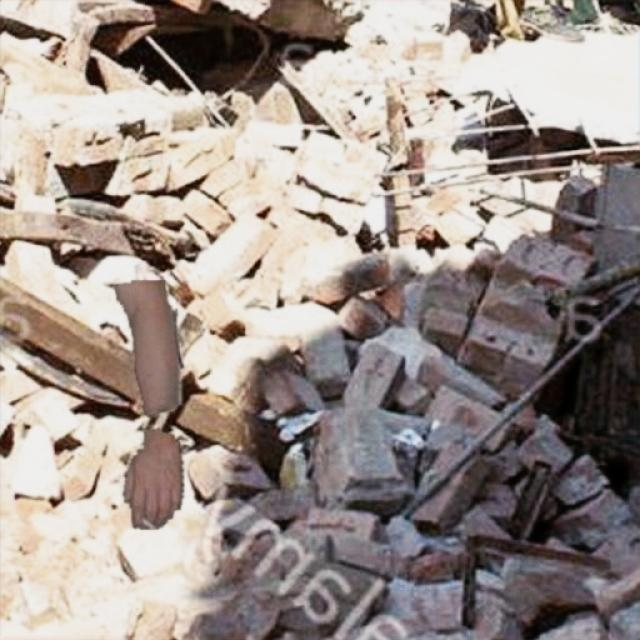Person in Rubble: (112, 280, 184, 529)
